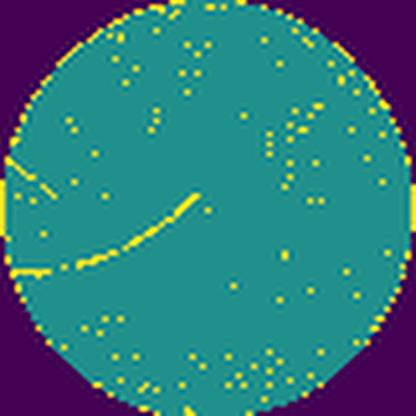Scratch: (11, 189, 207, 285)
